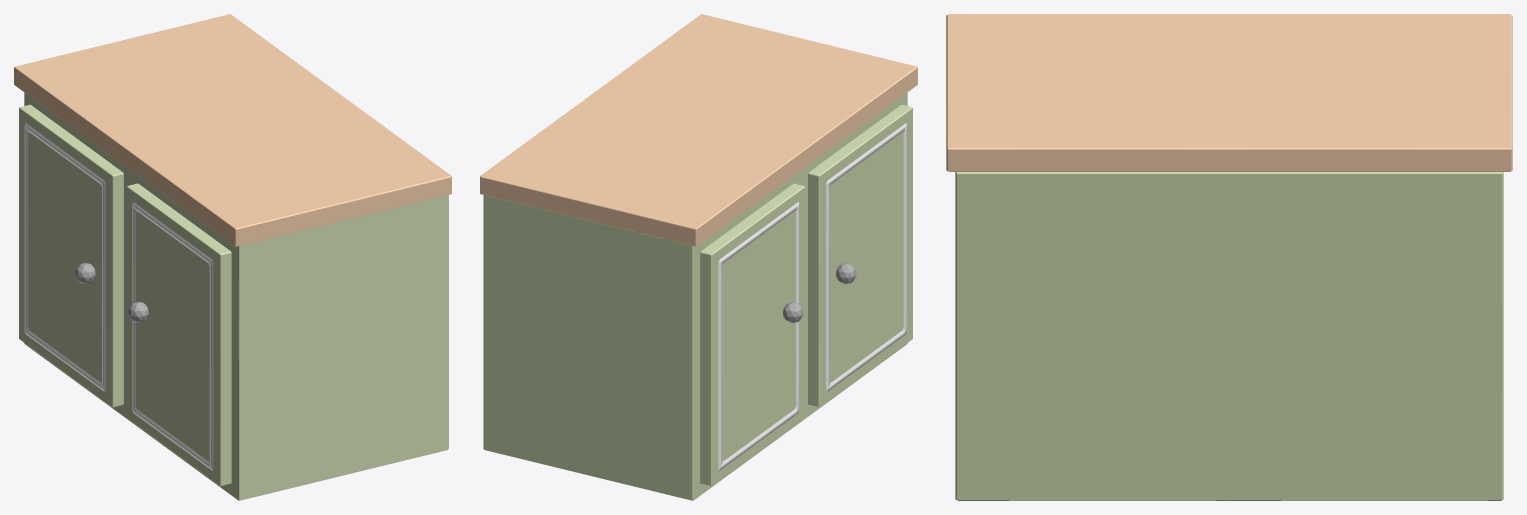
File: Kitchen.fbx
The picture shows the model from 3 angles, left to right: view 1: azimuth 30°, elevation 25°; view 2: azimuth 150°, elevation 25°; view 3: azimuth 270°, elevation 25°; orthographic projection. The views are drawn at different scales.
Visible parts, largest first — view 1: Counter; view 2: Counter; view 3: Counter.
Part boxes in pixels (box(x1,y1,x2,y2)): Counter: box(14, 14, 451, 500); Counter: box(480, 14, 917, 500); Counter: box(946, 14, 1512, 500).
Bounding box in the file's own units: 193 × 215 × 312.
